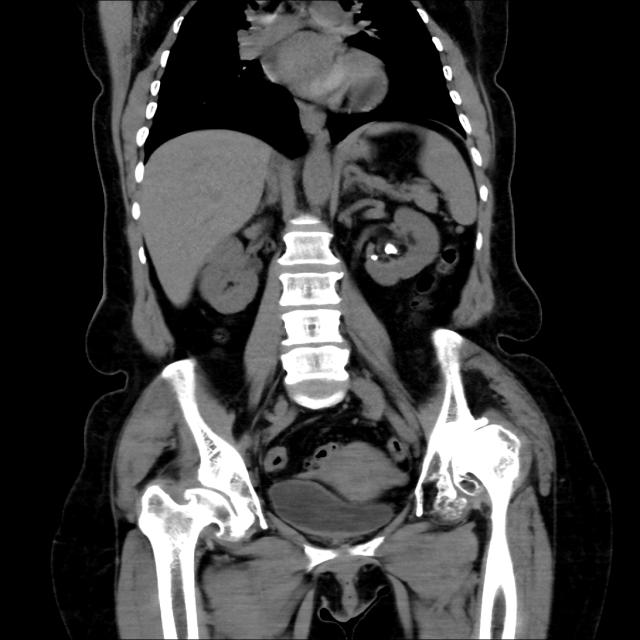kidneystone: (385, 244, 394, 254), (370, 255, 378, 261)
